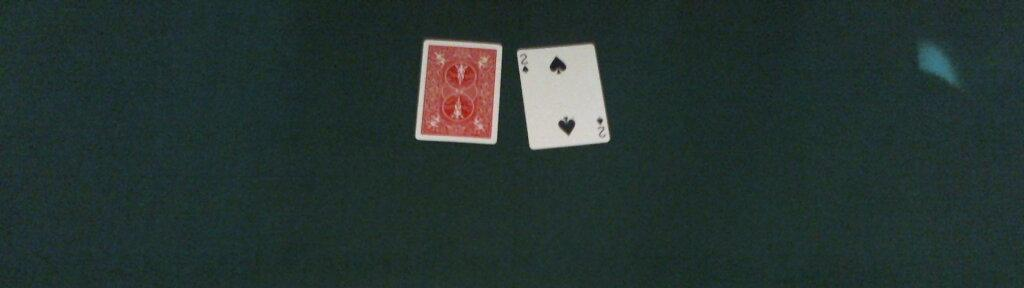back: (414, 39, 505, 144)
two: (515, 43, 611, 149)
